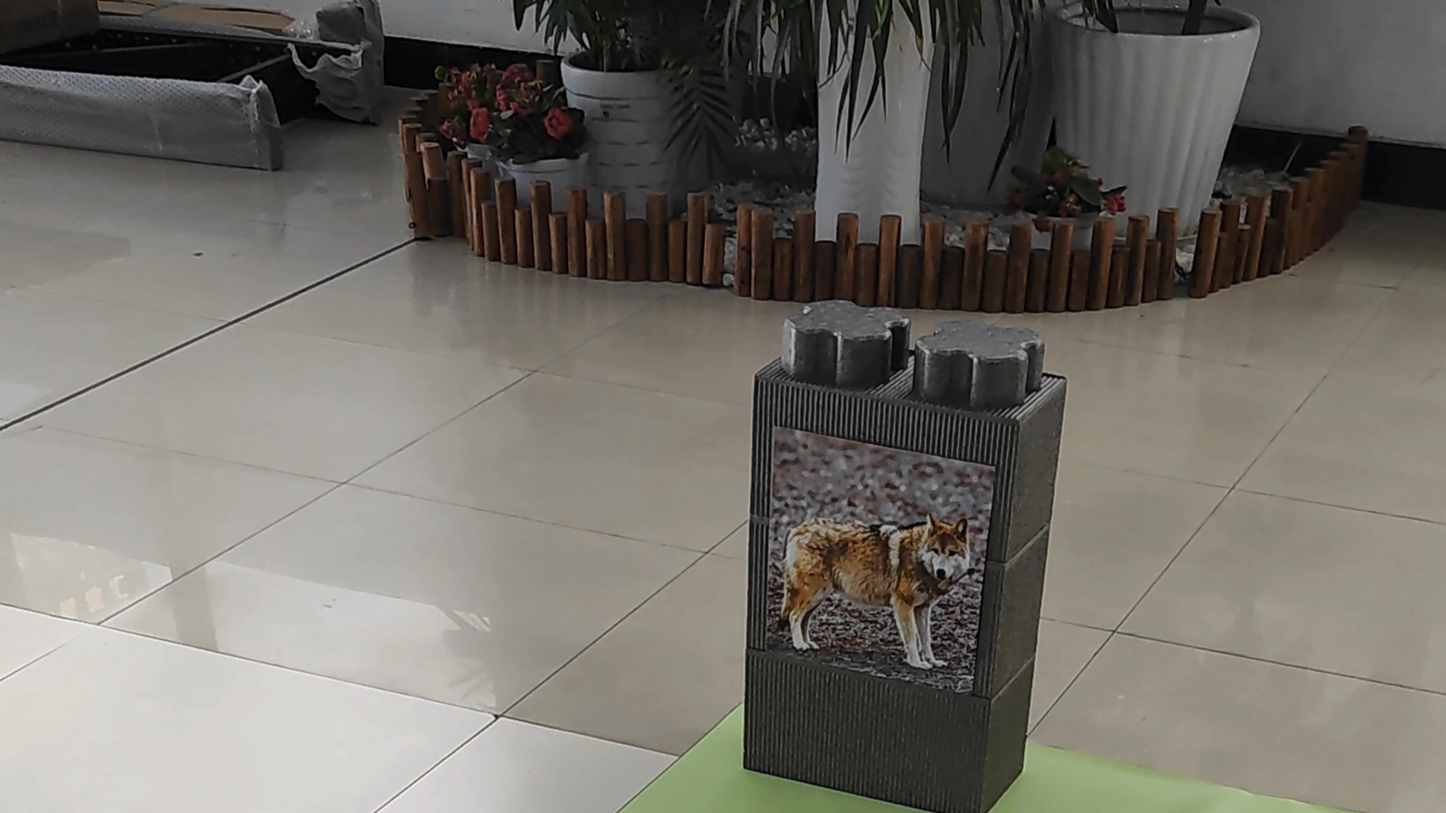wolf: (775, 477, 976, 696)
